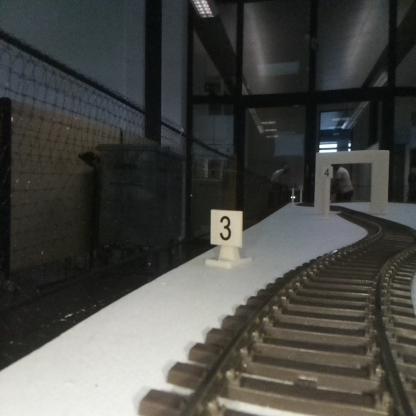white-info-4: (321, 165, 333, 218)
white-stop-3: (210, 210, 242, 267)
